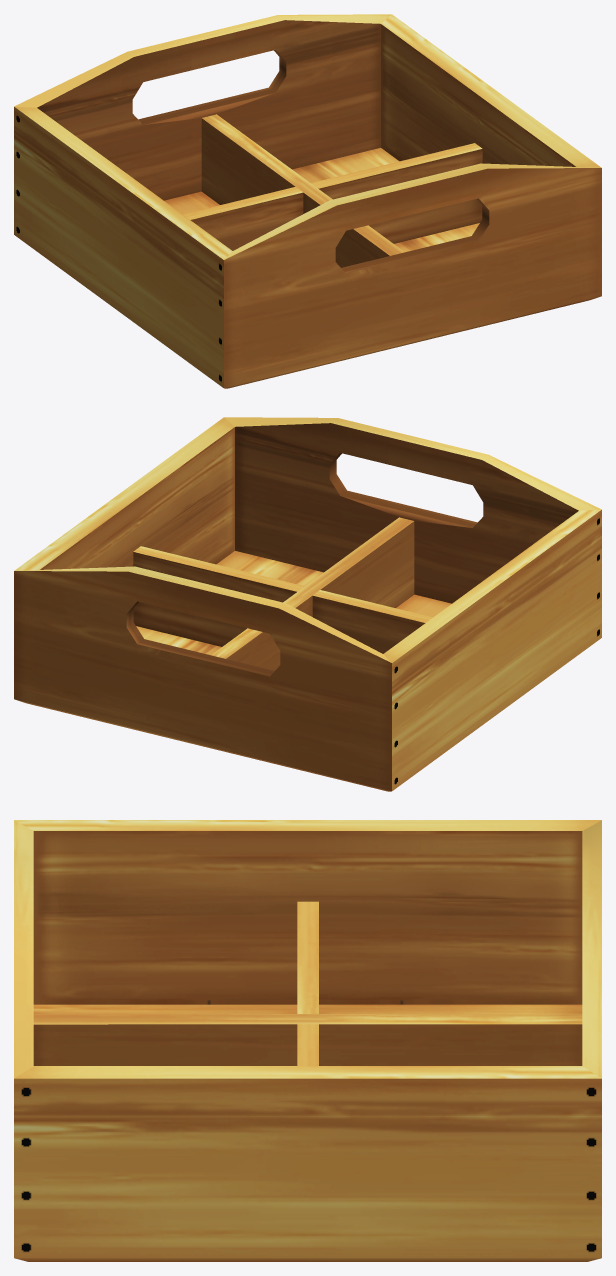
File: Potion_Crate_02.fbx
3 views of the same model, one above another, from view 1: azimuth 30°, elevation 25°; view 2: azimuth 150°, elevation 25°; view 3: azimuth 270°, elevation 25° (orthographic). The views are drawn at different scales.
Parts seen in each view (by area): view 1: Potion_Crate_02; view 2: Potion_Crate_02; view 3: Potion_Crate_02.
Part boxes in pixels (bbox=[...]): Potion_Crate_02: bbox=[14, 14, 601, 388]; Potion_Crate_02: bbox=[14, 417, 601, 791]; Potion_Crate_02: bbox=[14, 820, 601, 1261].
Bounding box in the file's own units: 159 × 64.88 × 153.
1 material, 1 textured.
